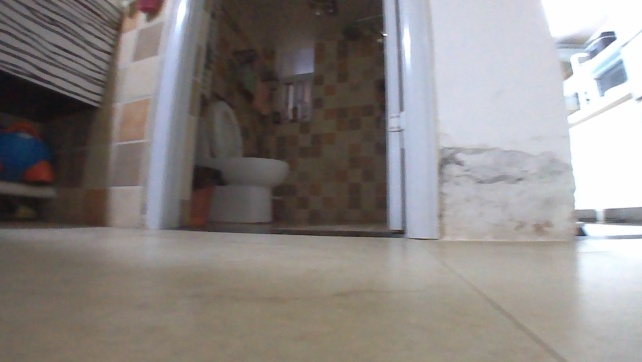toilet: (192, 99, 292, 223)
